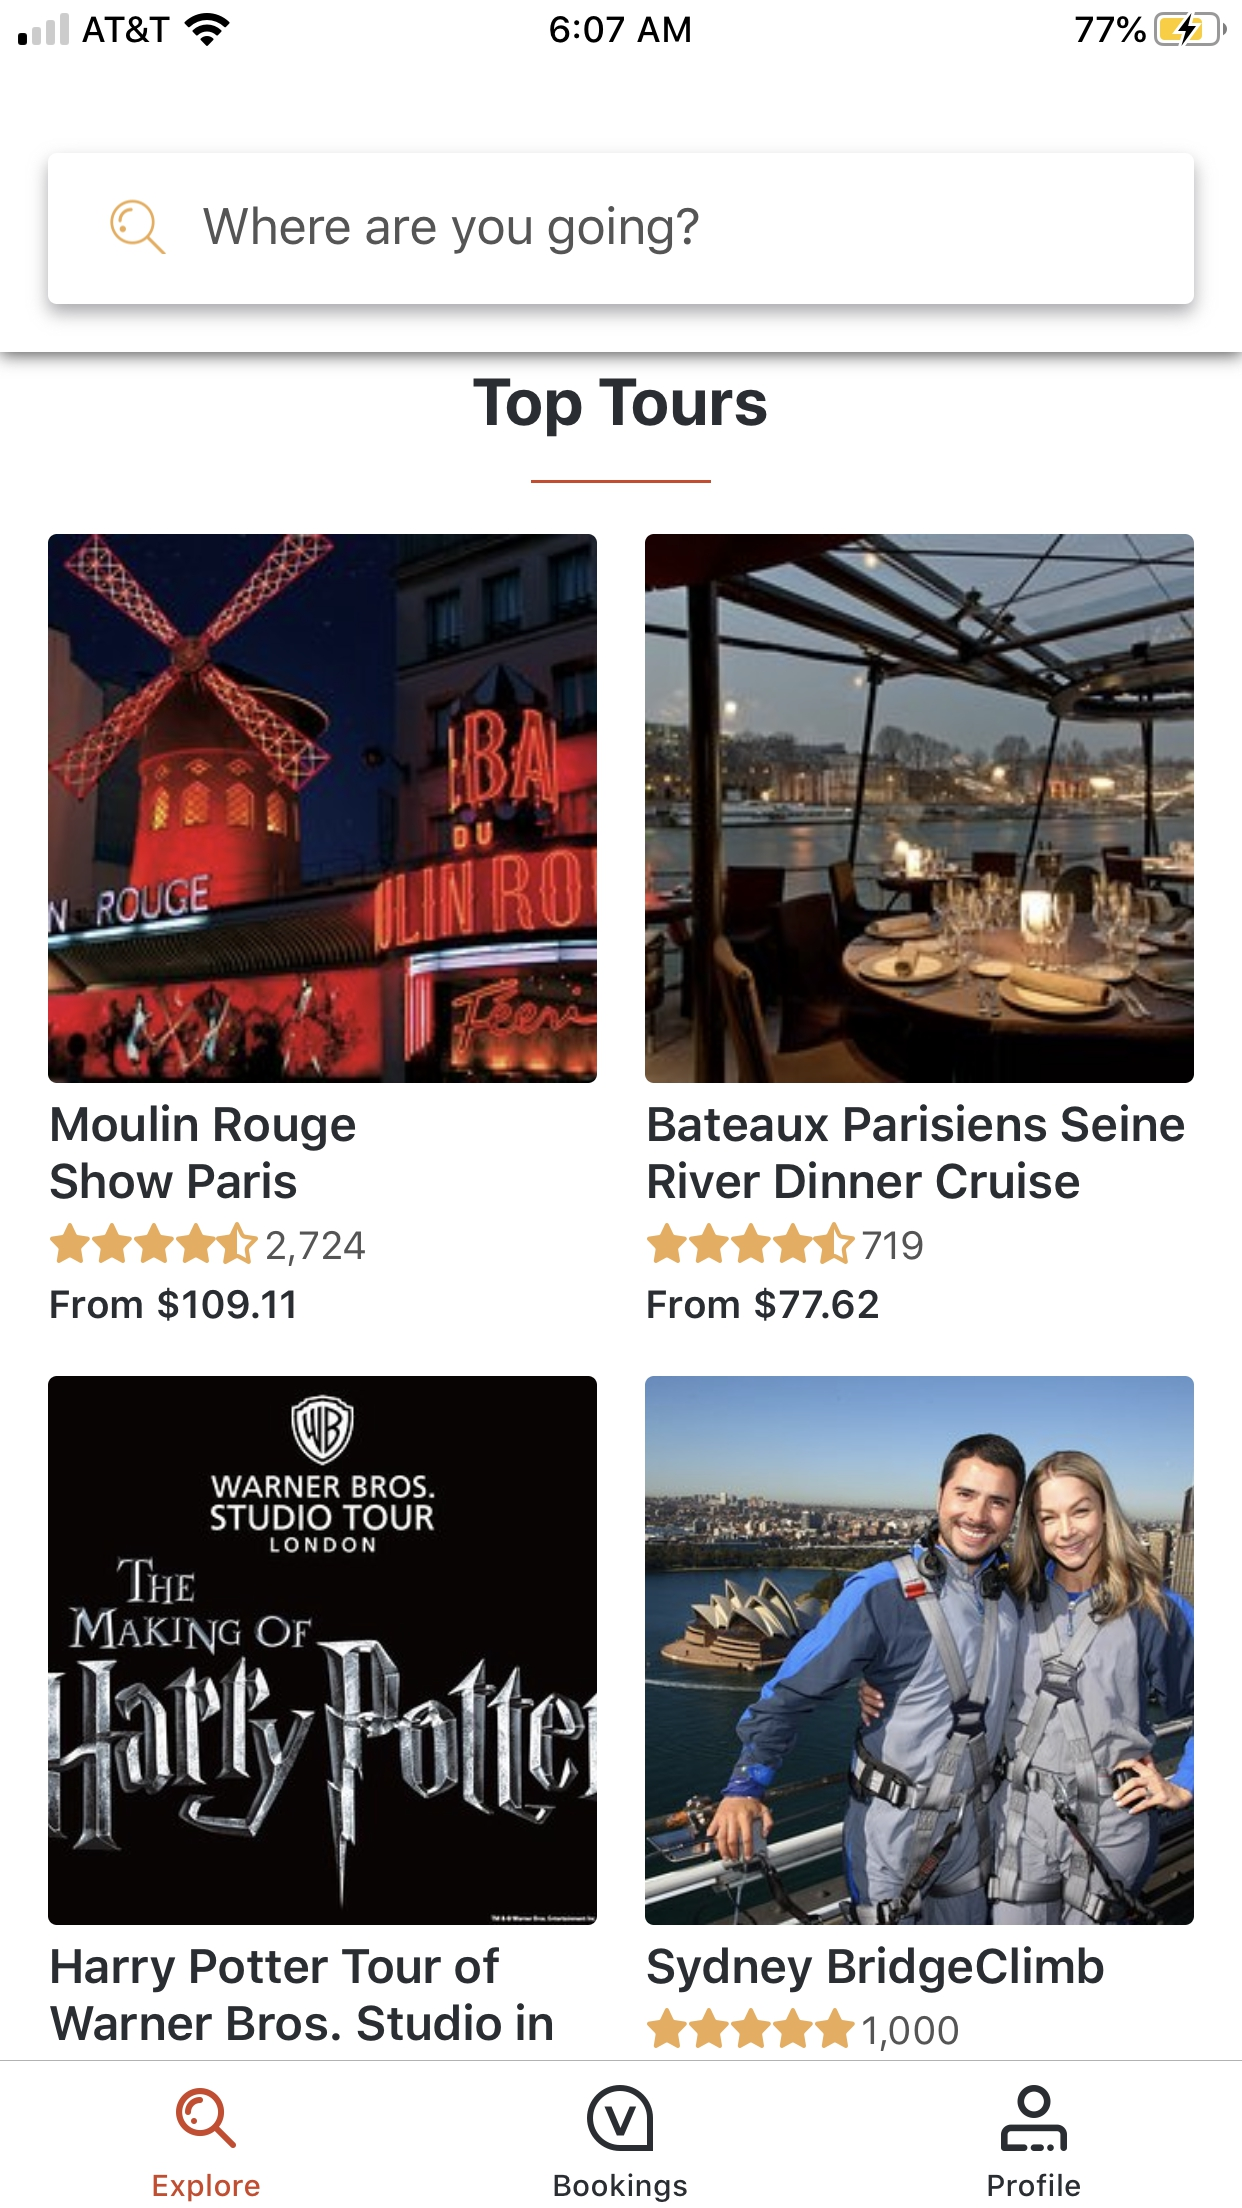EditText: (49, 155, 1193, 305)
Icon: (49, 1222, 259, 1265), (648, 1222, 855, 1265), (648, 2008, 855, 2047), (1001, 2085, 1068, 2150), (176, 2087, 237, 2147), (111, 200, 167, 255)
Image: (645, 1375, 1193, 1926), (49, 1375, 597, 1924), (645, 535, 1193, 1084), (49, 535, 597, 1084), (587, 2084, 654, 2150)
Text: (205, 206, 701, 256), (648, 1946, 1102, 1994), (53, 1947, 500, 1993), (649, 1104, 1184, 1142), (52, 2003, 554, 2041), (475, 379, 767, 438), (651, 1162, 1080, 1200), (53, 1106, 356, 1151), (52, 1162, 297, 1200), (52, 1287, 296, 1322), (649, 1287, 880, 1321), (554, 2172, 688, 2203), (267, 1230, 367, 1266), (863, 2015, 958, 2050), (155, 2175, 261, 2202), (989, 2172, 1081, 2197), (863, 1231, 924, 1260)
UpperTaskBar: (2, 2, 1242, 47)
